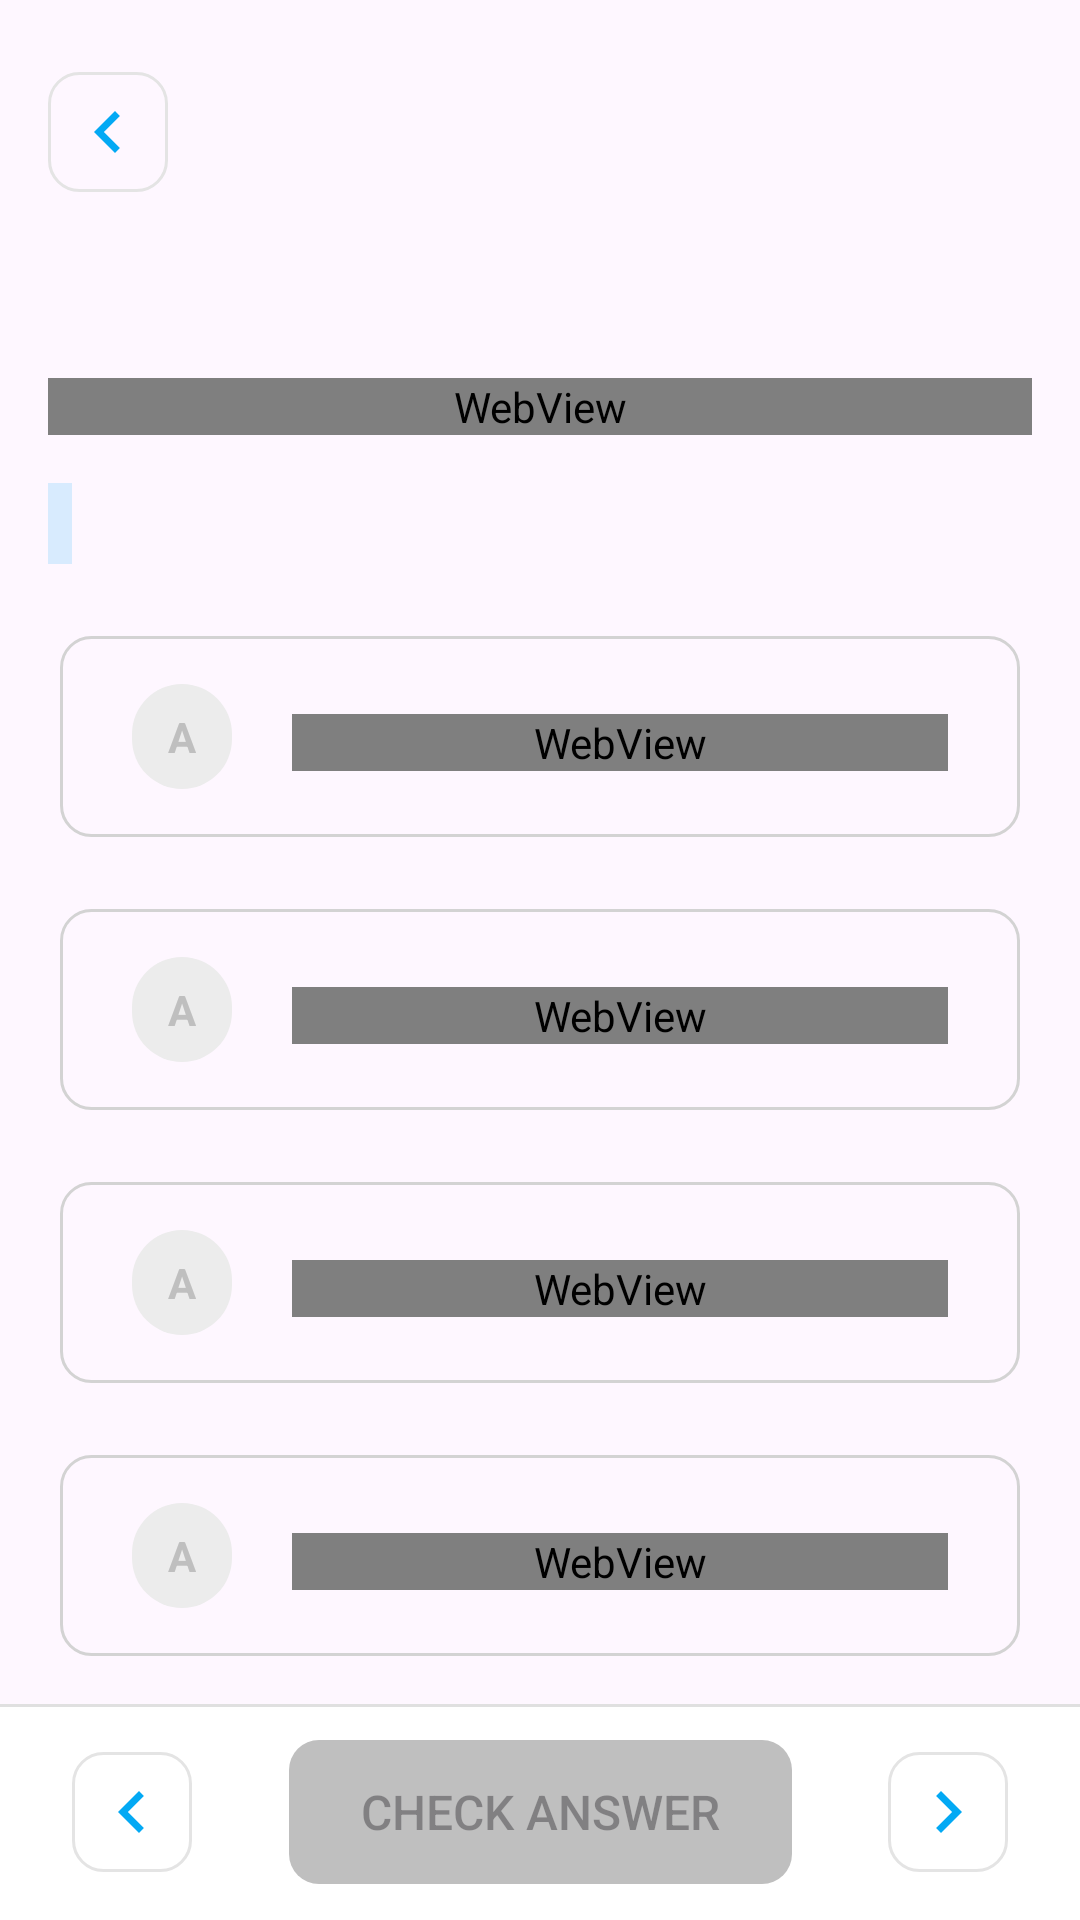

Where icons sit on this 1080*1920 app screen, as (x1, y1, x2, y2):
Back Button: (48, 72, 168, 192)
Next Question: (888, 1752, 1008, 1872)
Previous Question: (72, 1752, 192, 1872)
